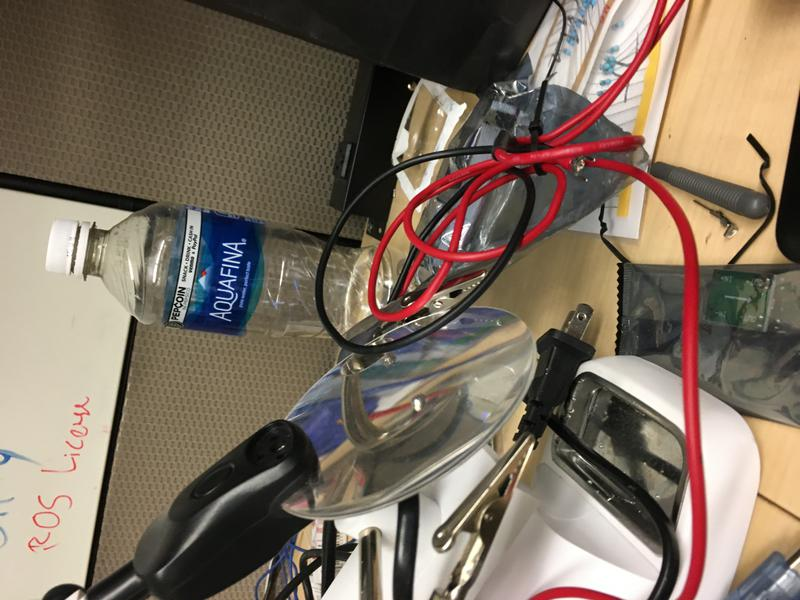bottle: (44, 201, 414, 342)
